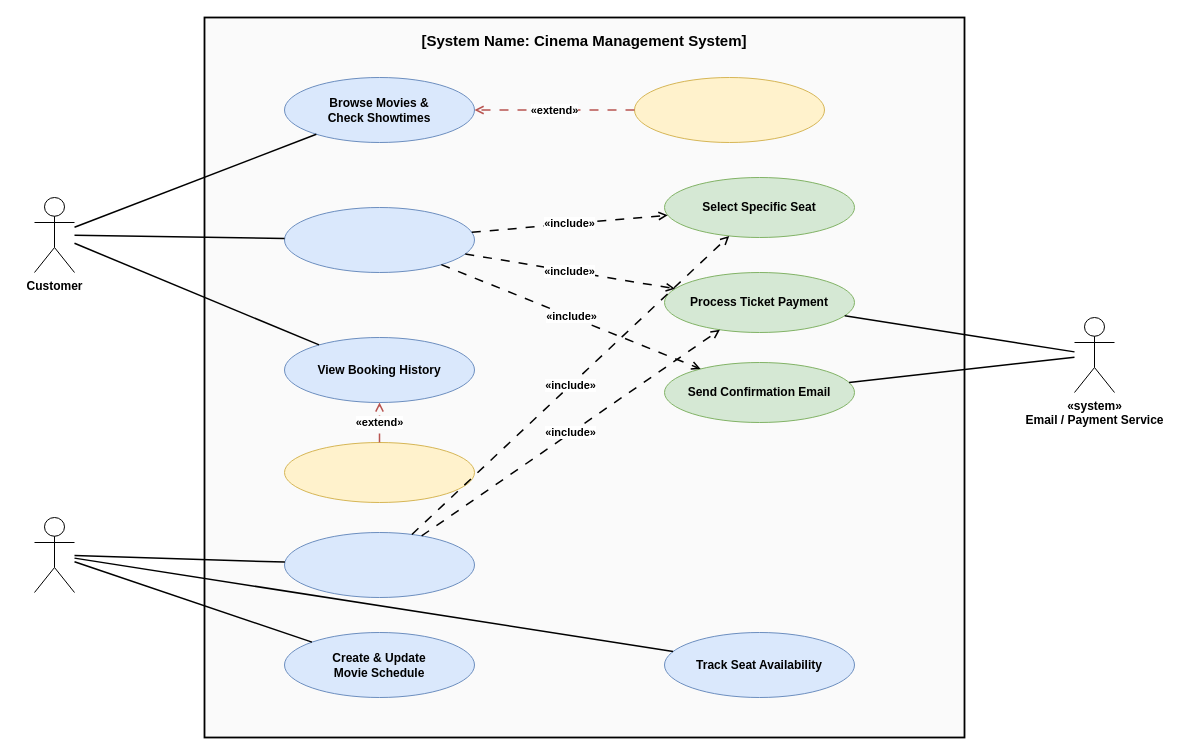
Some shapes in this 1180 by 756 pixel diagram are drawn without their labels. The centre of each missing label's shape, as x and y in pixels:
Cancel Booking: the point at 379,472
Create Walk-in Ticket Purchase at Counter: the point at 379,565
Reserve Ticket Online: the point at 379,239
Staff / Admin: the point at 54,554
View Movie Details: the point at 729,109
